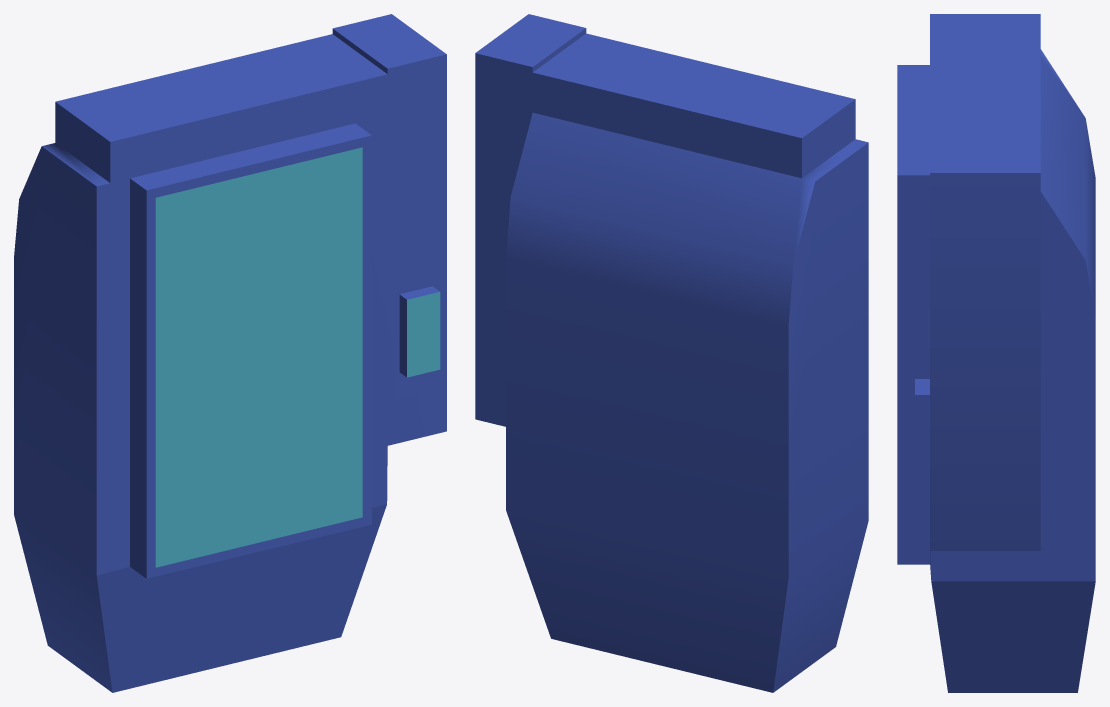
File: vending_machine2.fbx
3 views of the same model, side by side, from view 1: azimuth 30°, elevation 25°; view 2: azimuth 150°, elevation 25°; view 3: azimuth 270°, elevation 25° (orthographic). The views are drawn at different scales.
Parts seen in each view (by area): view 1: vending_machine2; view 2: vending_machine2; view 3: vending_machine2.
Boxes of the visible parts, left/top/right/bottom form: vending_machine2: left=14, top=14, right=446, bottom=692; vending_machine2: left=475, top=14, right=868, bottom=692; vending_machine2: left=897, top=14, right=1095, bottom=692.
Size of the model in its own units: 160 by 247 by 78.41.
